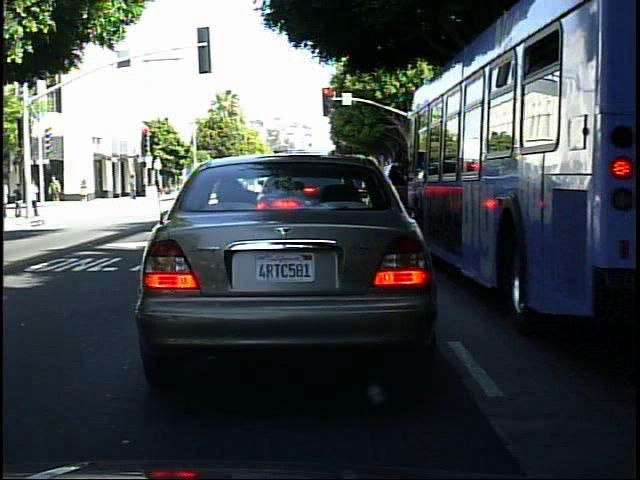person: (76, 173, 94, 209), (11, 179, 26, 221), (125, 170, 143, 204), (30, 173, 43, 217), (48, 171, 65, 204)
